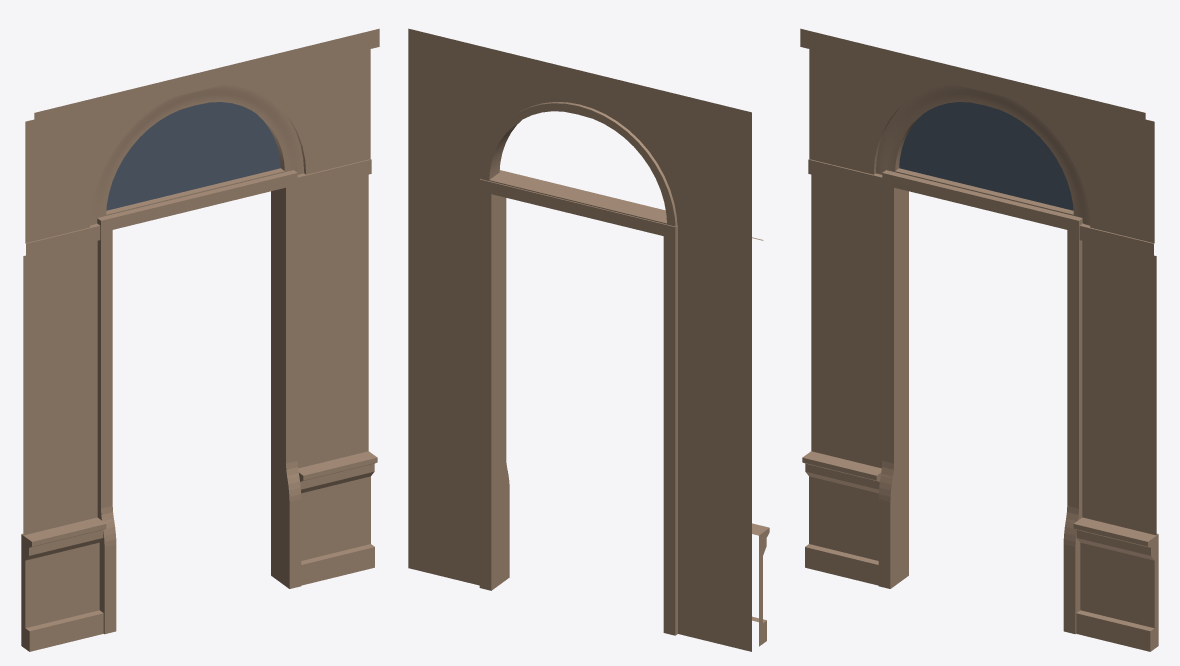
File: env_block_door_frame_trim.glb
3 views of the same model, side by side, from view 1: azimuth 30°, elevation 25°; view 2: azimuth 150°, elevation 25°; view 3: azimuth 330°, elevation 25° (orthographic).
Parts seen in each view (by area): view 1: part_0, part_1; view 2: part_0; view 3: part_0, part_1.
Boxes of the visible parts, <box> form: part_0: <box>21,28,379,651</box>; part_1: <box>106,102,280,210</box>; part_0: <box>408,28,769,651</box>; part_0: <box>800,28,1158,651</box>; part_1: <box>899,102,1073,210</box>.
Size of the model in its own units: 2 by 3 by 0.2256.
